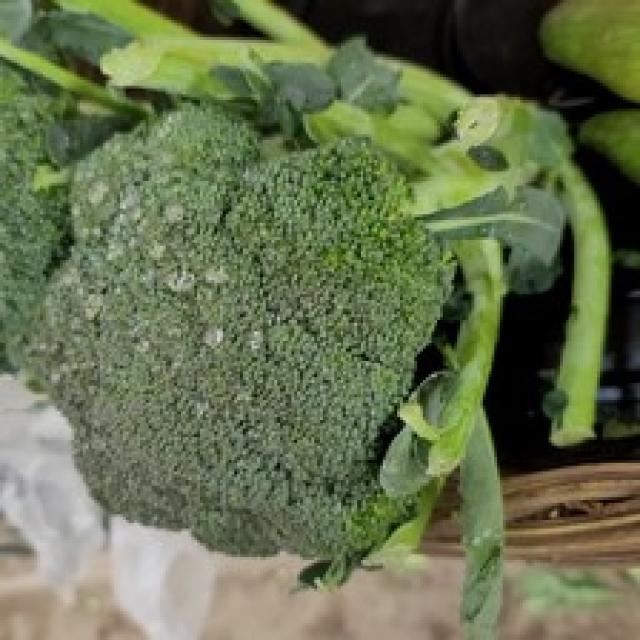Broccoli: (39, 106, 450, 559), (40, 106, 452, 554)
